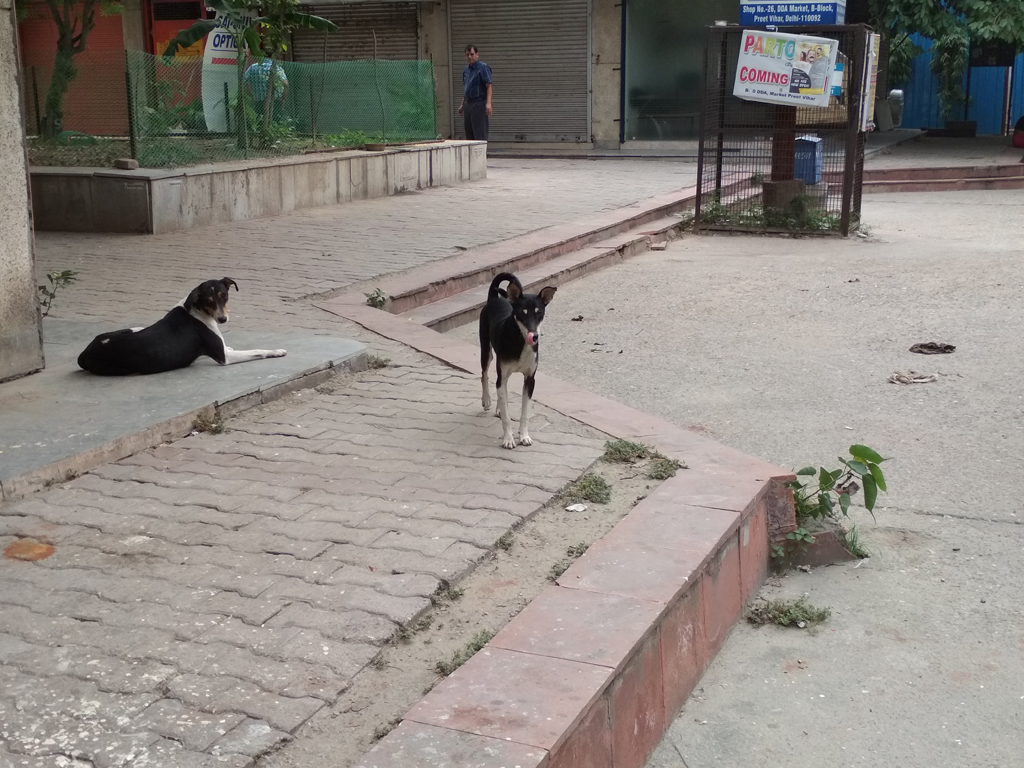dog: (109, 278, 286, 377), (480, 273, 557, 450)
